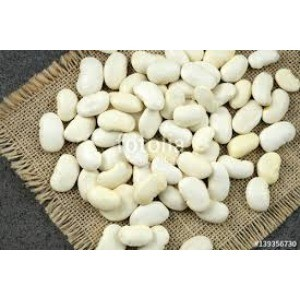beans_brain food: (85, 83, 242, 179)
